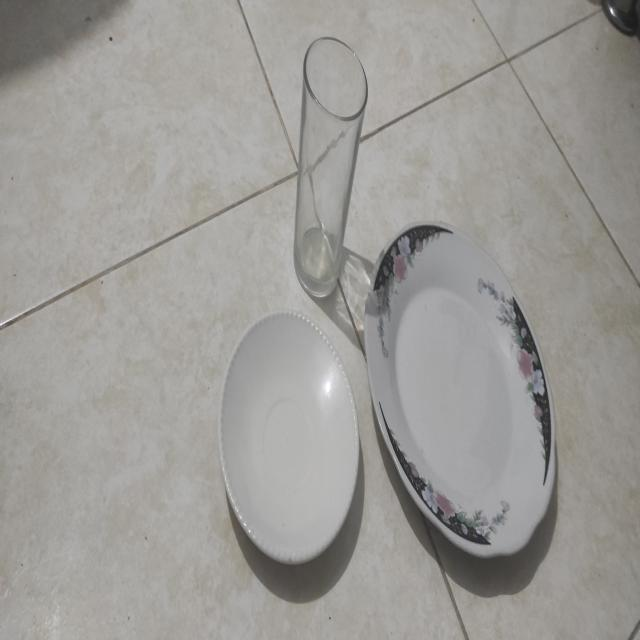non-organic waste: (363, 211, 574, 574), (210, 292, 365, 581)
